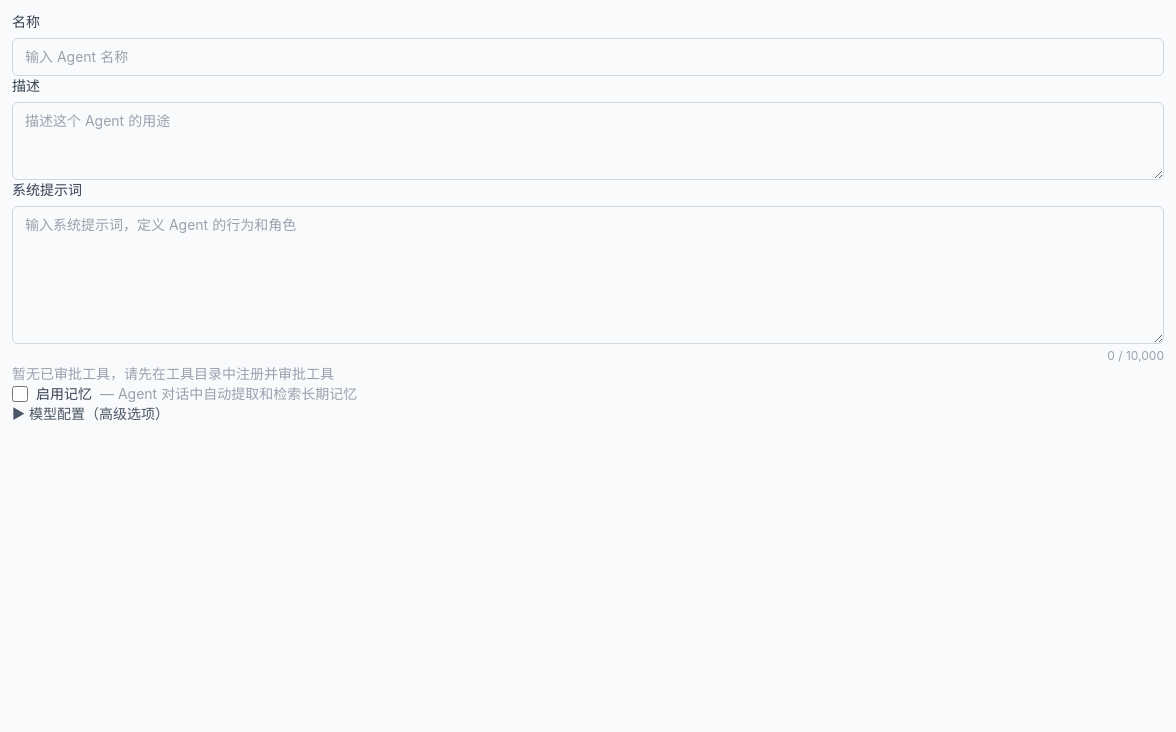
Test: AgentFormFields › 再次点击高级选项按钮应收起
Step 1. Click the button "▶ 模型配置（高级选项）" → (90, 414), box [12, 404, 169, 424]
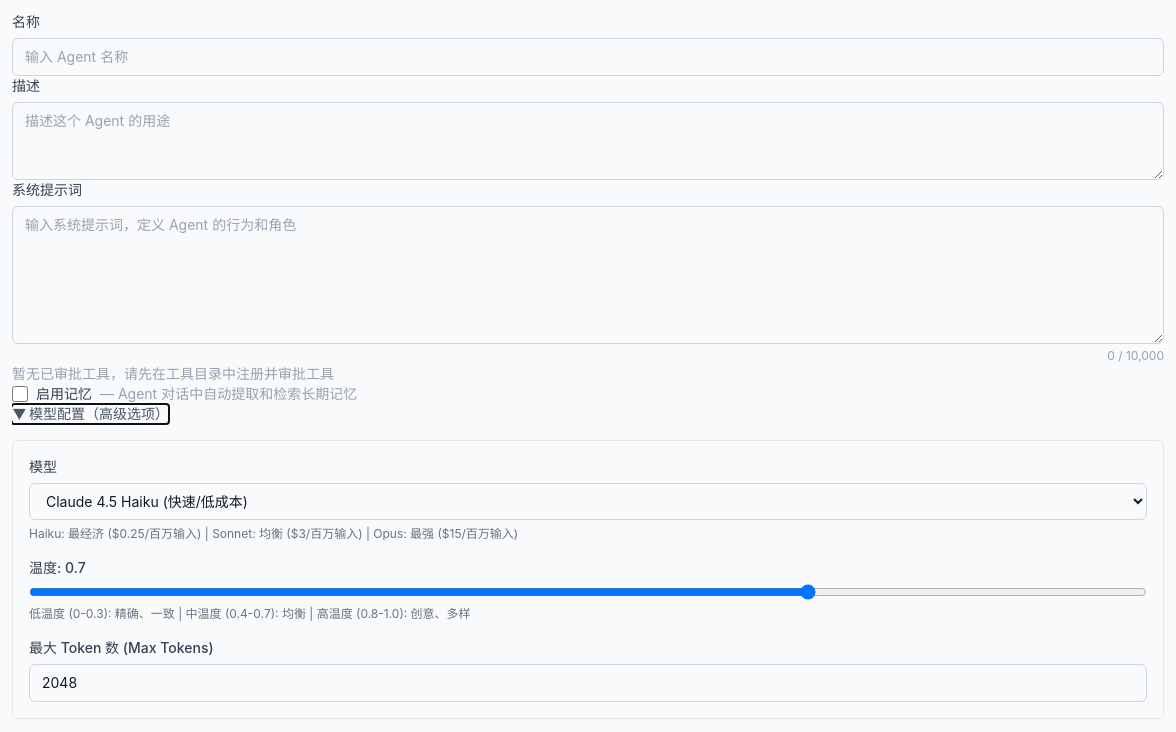
Result: the dropdown labelled "模型" is shown at [29, 483, 1147, 520]
Step 2. Click the button "▶ 模型配置（高级选项）" → (90, 414), box [12, 404, 169, 424]
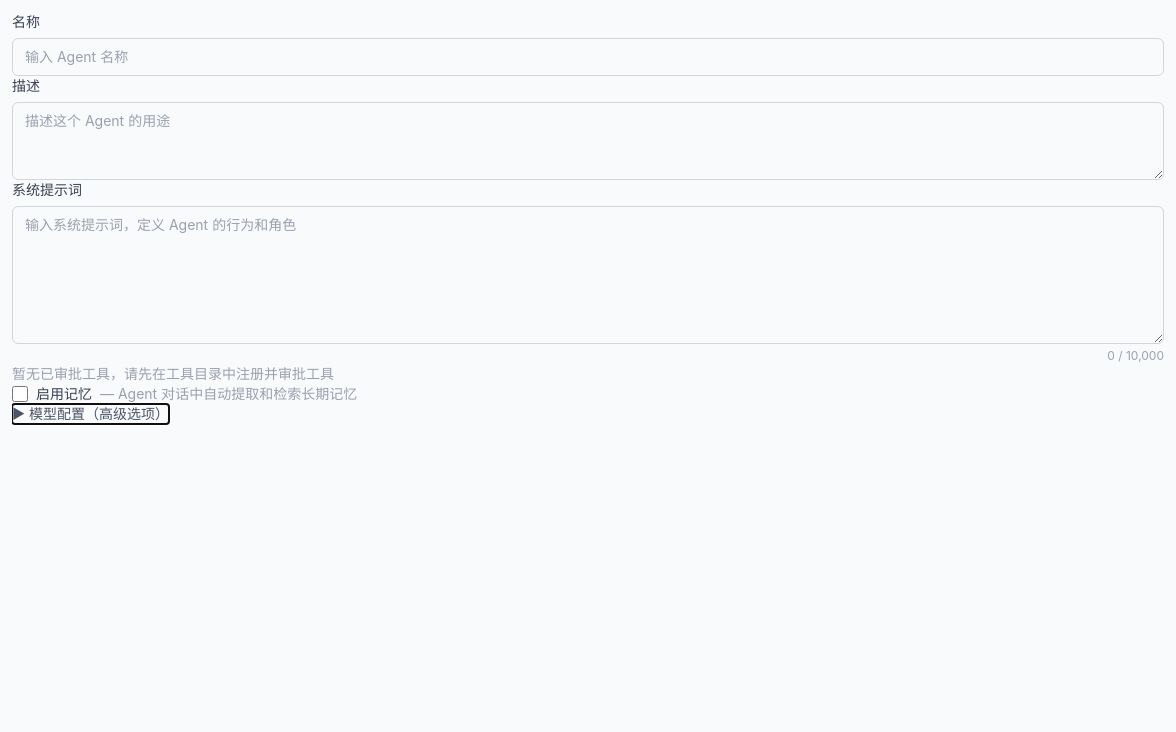
Result: the button "▶ 模型配置（高级选项）" is collapsed at [12, 404, 169, 424]
